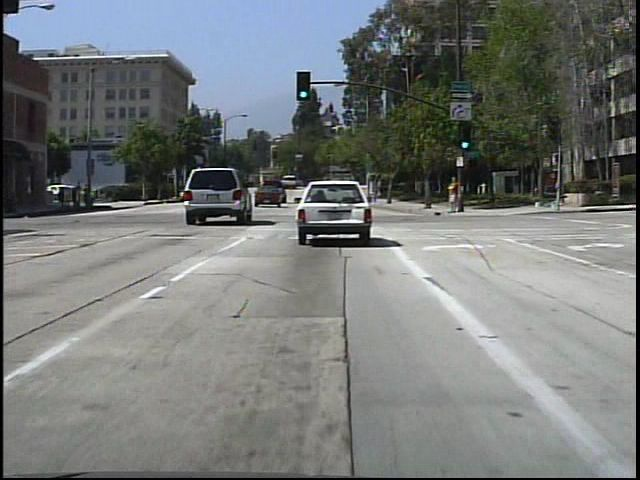person: (443, 171, 464, 217), (75, 180, 86, 213), (88, 182, 89, 209)
